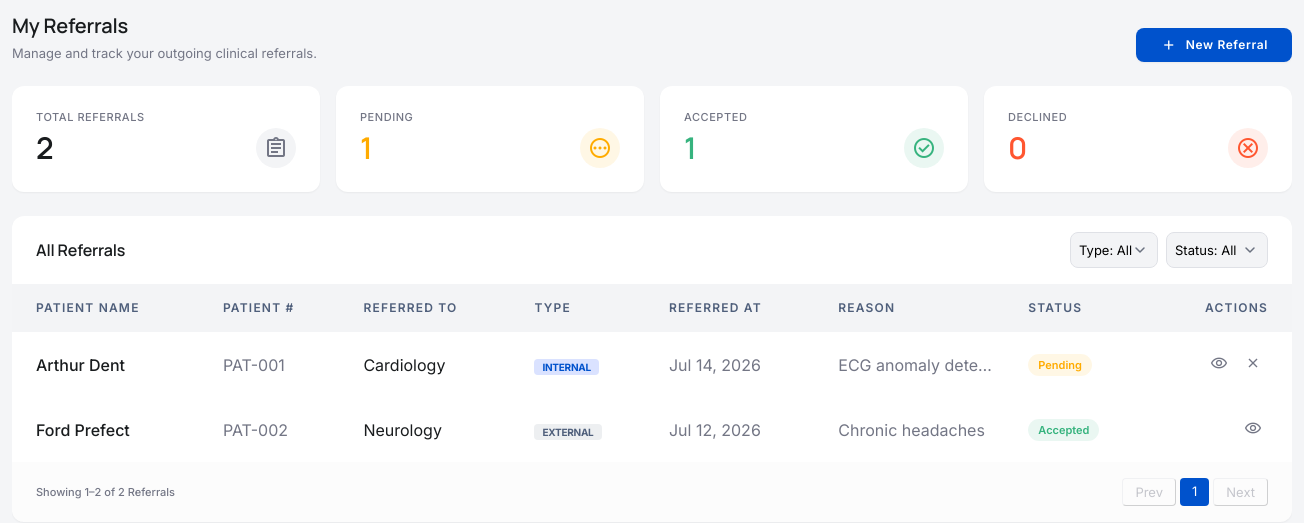
Test: MyReferralsPage › filters referrals by status select dropdown
Expected: the text "Arthur Dent" is shown, [12,332,207,397]
Select "Pending" in the 2nd dropdown at coordinates (1217, 250), box [1166,232,1268,268]
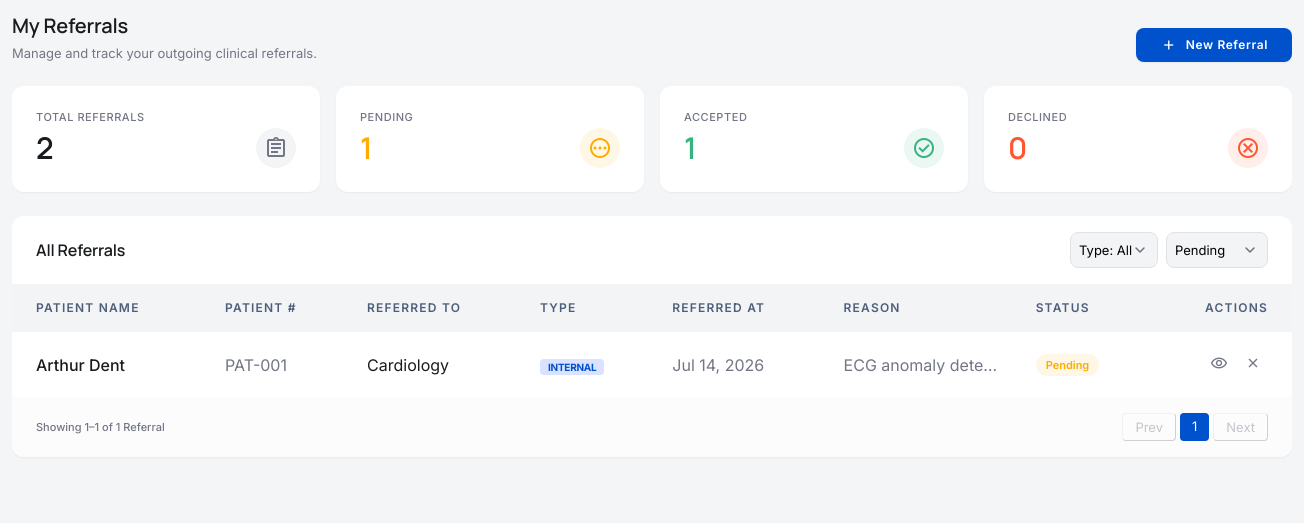
Expected: the text "Arthur Dent" is shown, [12,332,209,397]
Expected: the text "Ford Prefect" is gone
